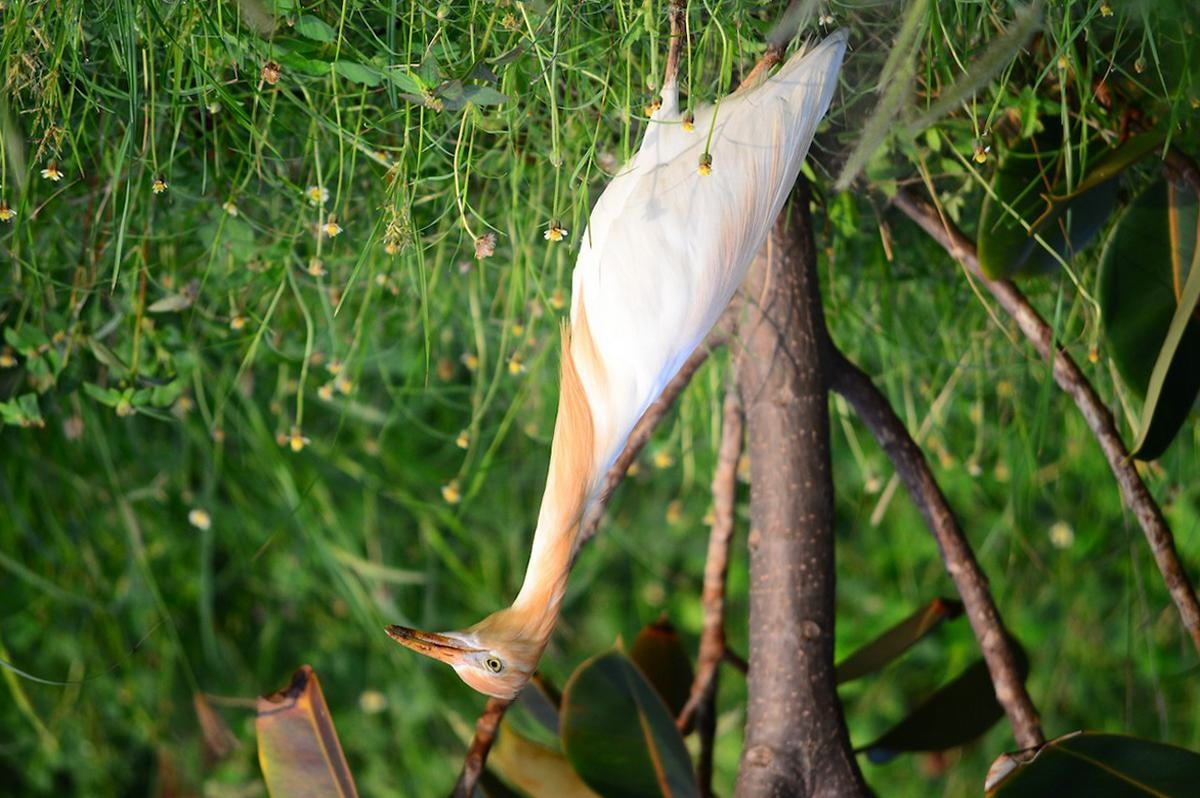egret: (380, 1, 860, 707)
